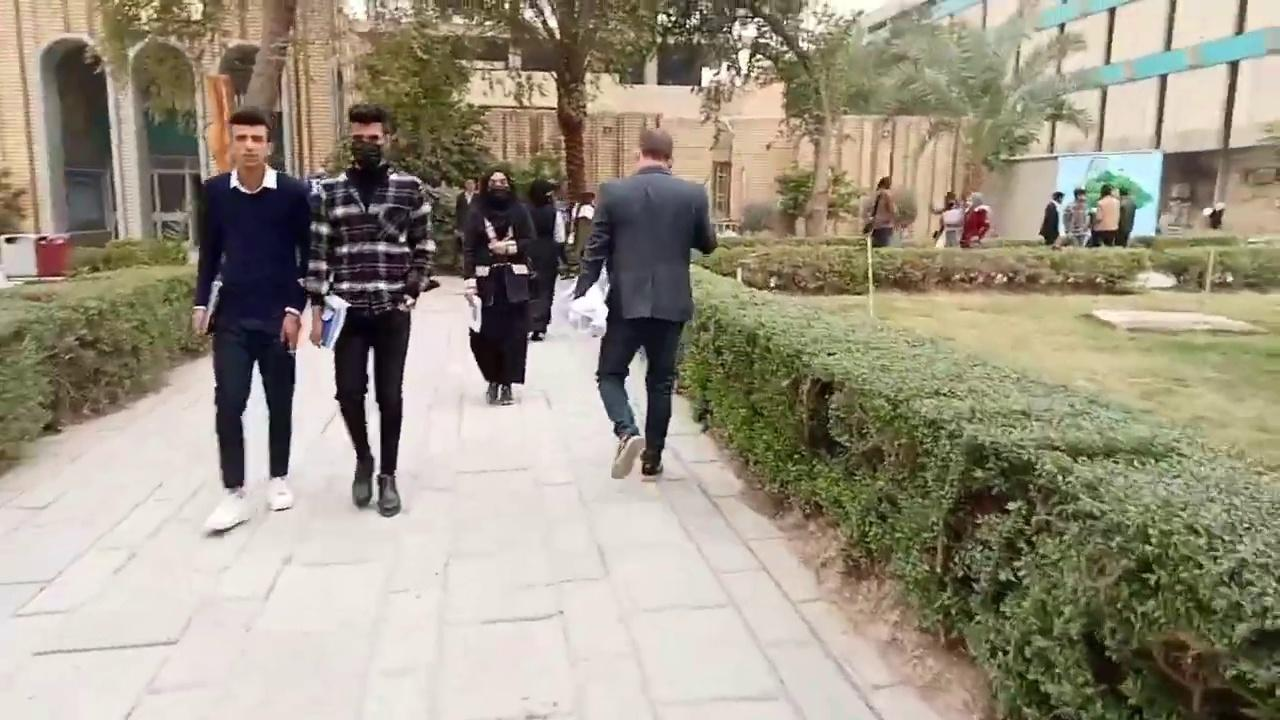person: (301, 102, 438, 517), (569, 127, 718, 479), (190, 106, 312, 534), (461, 164, 538, 405), (522, 178, 564, 340), (865, 175, 896, 246), (1090, 183, 1121, 246), (959, 191, 992, 247), (931, 191, 964, 247), (1063, 188, 1091, 246), (1038, 191, 1064, 245)
tree: (674, 234, 1278, 718), (845, 1, 1097, 241), (450, 0, 666, 208), (693, 0, 869, 236), (345, 11, 495, 272), (714, 231, 1276, 297), (83, 0, 233, 241), (977, 18, 1102, 239), (1206, 0, 1249, 228), (1021, 22, 1094, 155), (772, 160, 860, 236), (1082, 166, 1152, 245), (772, 160, 814, 236)
